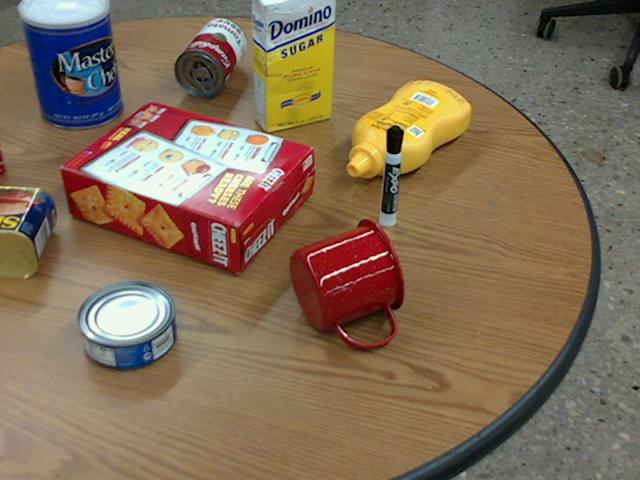cracker_box: (62, 100, 312, 272)
gelatin_box: (0, 145, 4, 171)
large_marker: (380, 125, 403, 226)
master_chef_can: (21, 0, 122, 127)
mug: (289, 219, 405, 347)
mustard_bottle: (347, 81, 469, 177)
potted_meat_can: (0, 185, 54, 276)
sugar_box: (252, 0, 335, 132)
tomato_soup_can: (174, 18, 245, 96)
tuna_fish_can: (76, 279, 174, 368)
